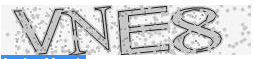8: (170, 5, 225, 54)
E: (117, 5, 171, 56)
N: (61, 5, 113, 55)
V: (12, 8, 64, 54)
